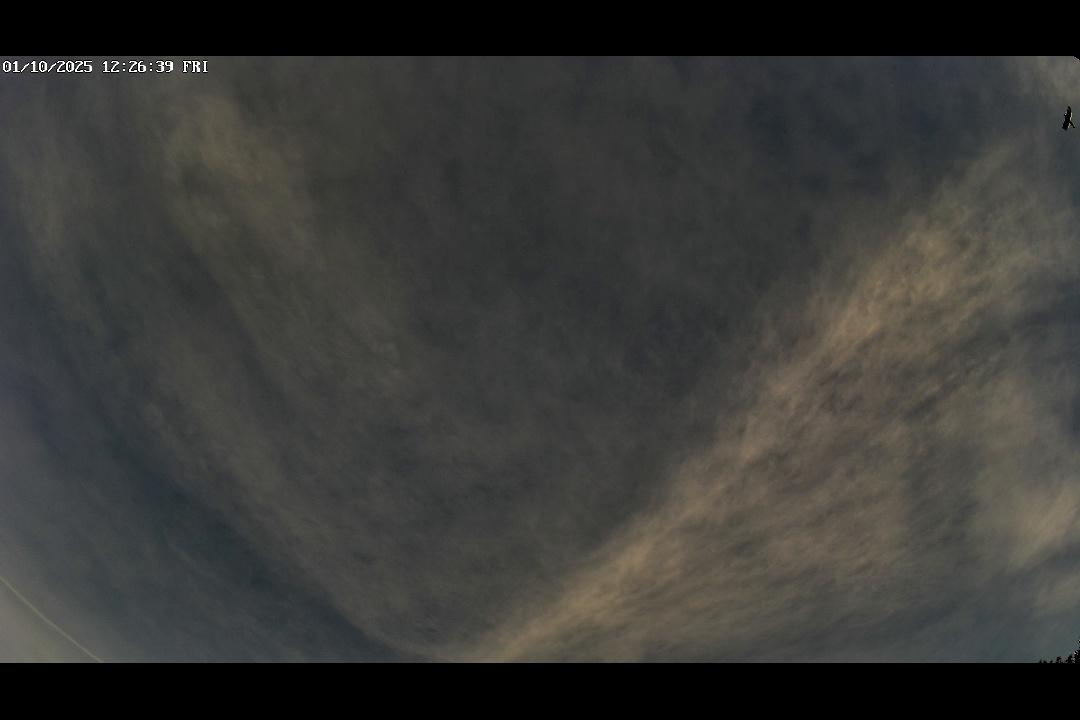WildLife: (1039, 96, 1079, 139)
